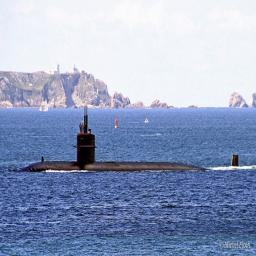submarine: (5, 133, 241, 173)
